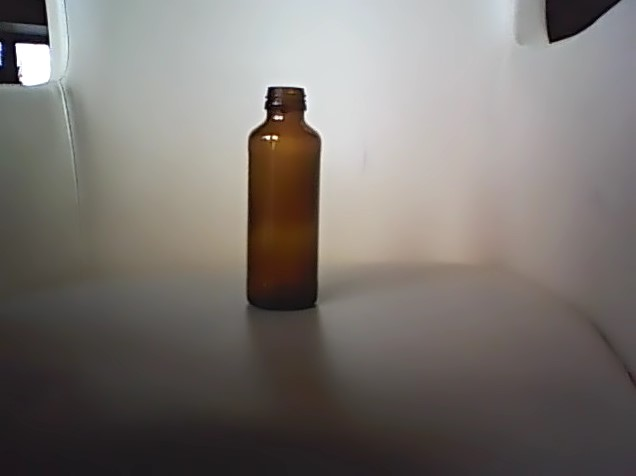Glass: (245, 83, 326, 316)
